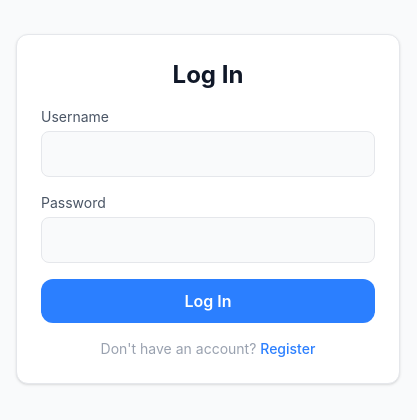
Scenario: Login › shows the error message when login fails
Type "alice" into the field labelled "Username" at (208, 154), box [41, 131, 375, 177]
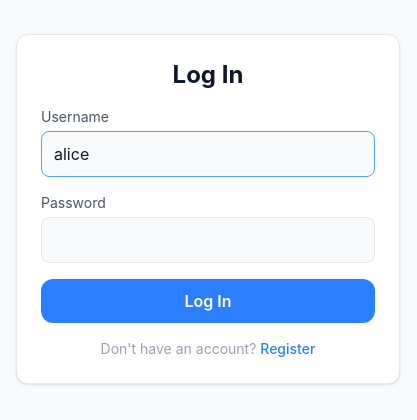
Type "wrong-password" into the password field labelled "Password" at (208, 240), box [41, 217, 375, 263]
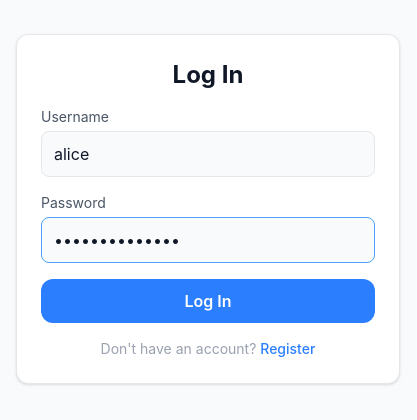
Click the button "Log In" at (208, 301), box [41, 279, 375, 323]
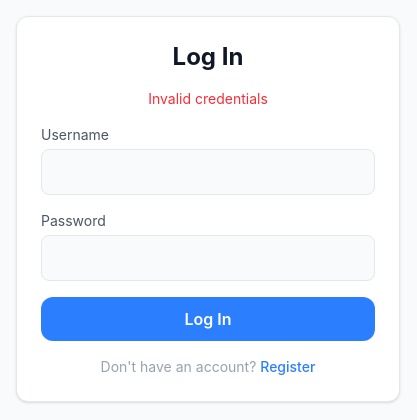
Expected: the text "Invalid credentials" is shown, [148, 90, 268, 107]
